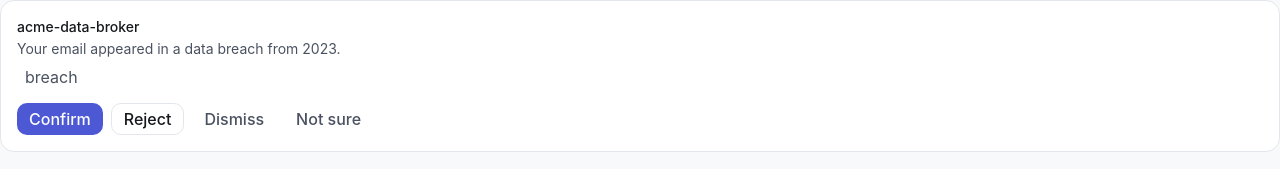
Test case: CandidateCard — post-action transitions › DISMISS success: pending → Deferred badge + no action buttons + still visible
Click the button "Dismiss".
click(234, 119)  # box [192, 103, 276, 135]
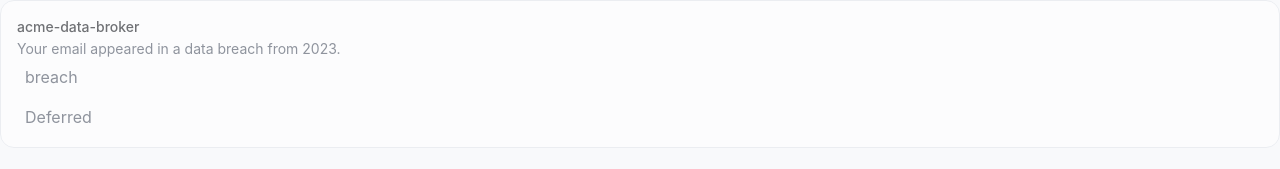
Expected: the text "acme-data-broker" is shown, [17, 18, 139, 35]
Now the text "Deferred" is shown, box [17, 103, 1263, 131]
Now no buttons are shown
